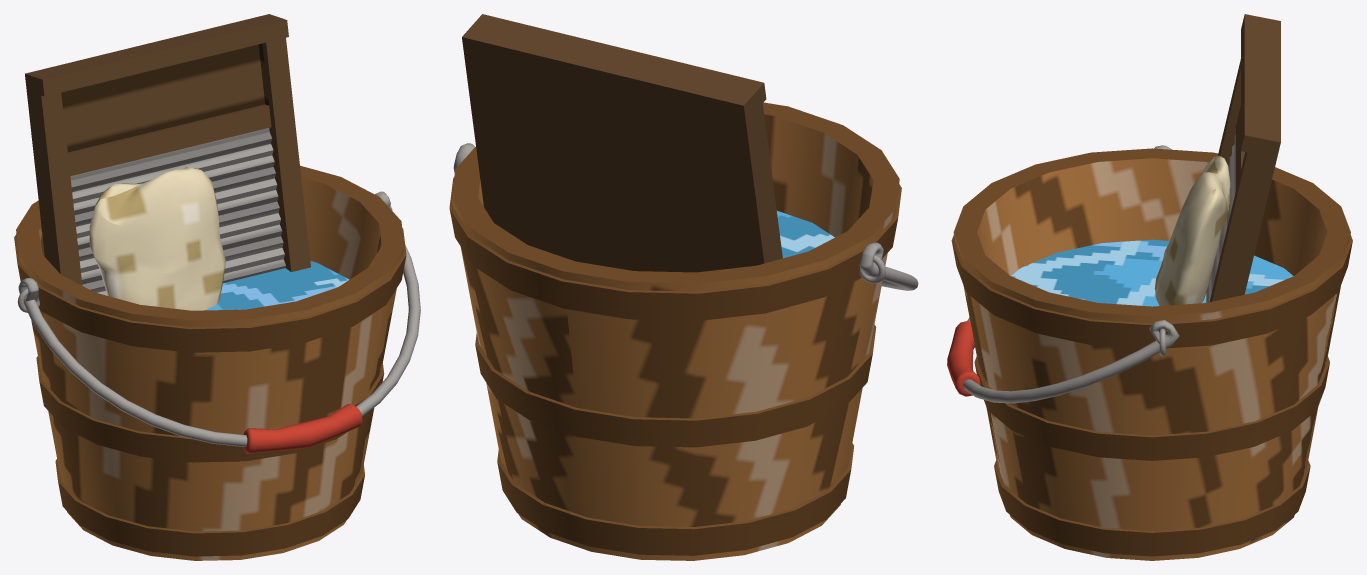
The model's file is Wash Bucket Textured.fbx.
3 renders of one model, left to right at view 1: azimuth 30°, elevation 25°; view 2: azimuth 150°, elevation 25°; view 3: azimuth 270°, elevation 25°, orthographic. The views are drawn at different scales.
Parts seen in each view (by area): view 1: polySurface2, polySurface1; view 2: polySurface2; view 3: polySurface2, polySurface1.
Boxes of the visible parts, box(x1,y1,x2,y2) form: polySurface2: box(14, 14, 420, 560); polySurface1: box(89, 167, 225, 310); polySurface2: box(449, 14, 918, 560); polySurface2: box(947, 14, 1352, 560); polySurface1: box(1154, 155, 1230, 305).
Bounding box in the file's own units: 26.18 × 27.83 × 24.18.
Materials: 2 (2 with a texture image).
